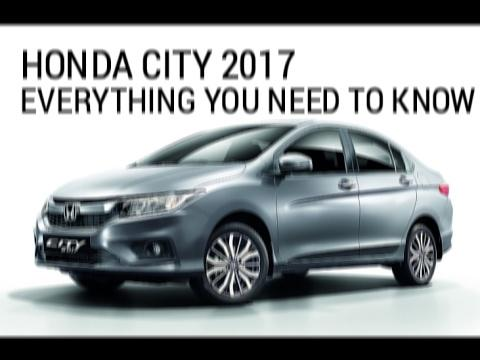Car hood: (52, 163, 246, 200)
Fender - -F-L-: (189, 161, 285, 282)
Fender - -R-L-: (394, 179, 449, 260)
Front bumper: (28, 217, 214, 285)
Headlight - -L-: (113, 185, 207, 226)
Headlight - -R-: (38, 193, 55, 220)
Passenger-s door - -F-L-: (276, 119, 362, 258)
Passenger-s door - -R-L-: (350, 125, 420, 261)
Rear bumper: (436, 200, 457, 264)
Rear light - -L-: (434, 174, 455, 204)
Side bumper - -L-: (269, 242, 416, 277)
Side mirror - -L-: (277, 151, 314, 181)
